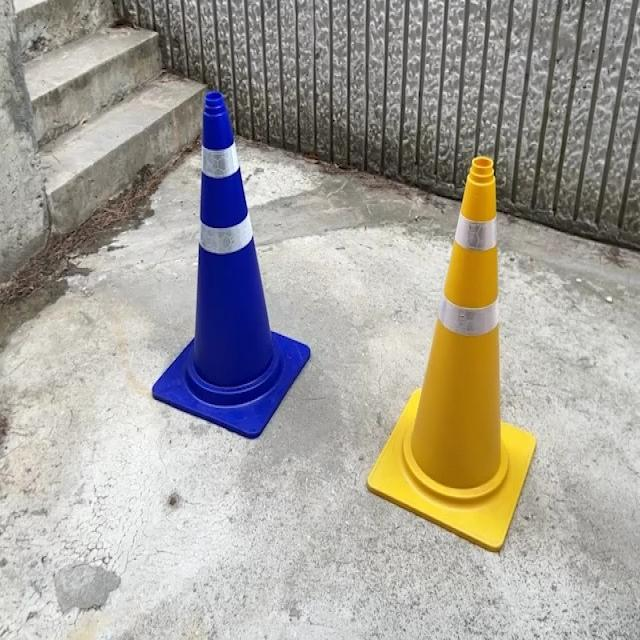b_rub: (152, 91, 311, 438)
y_rub: (368, 156, 537, 551)
